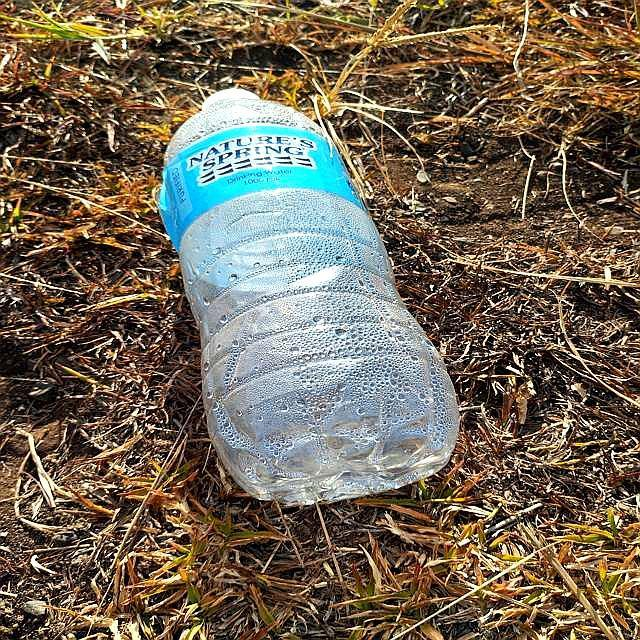Non-biodegradable: (157, 87, 463, 509)
